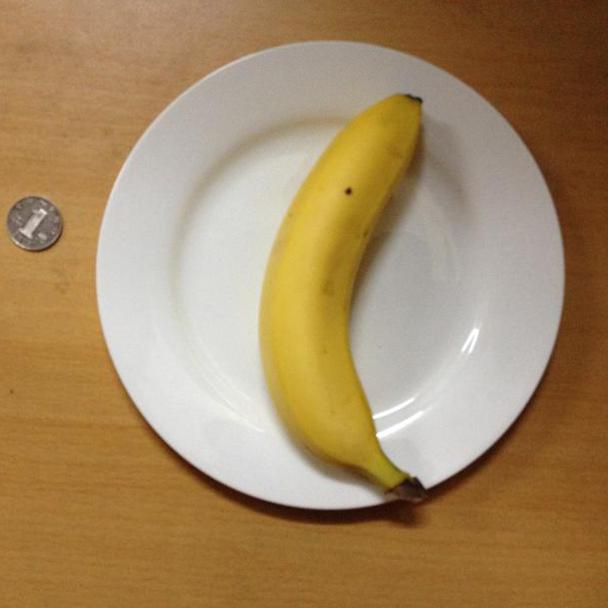banana: (260, 90, 434, 512)
